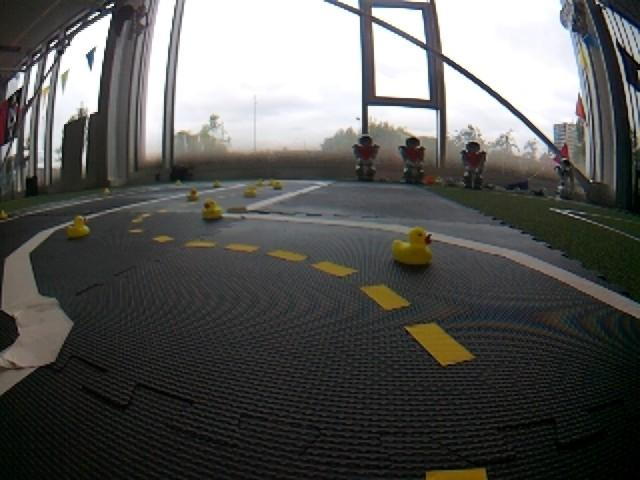Duckies: (390, 228, 432, 266), (65, 215, 90, 237), (202, 199, 224, 219), (187, 188, 200, 201), (243, 184, 257, 196), (0, 209, 8, 219), (273, 181, 283, 189), (103, 187, 110, 195), (257, 179, 265, 186), (176, 180, 182, 186), (215, 182, 222, 187), (269, 178, 273, 185)
